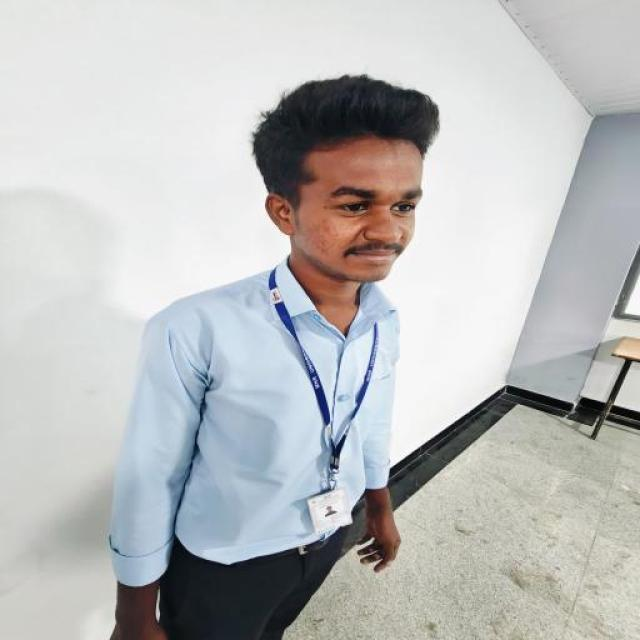Card: (308, 488, 352, 532)
Id strap: (269, 269, 331, 426)
